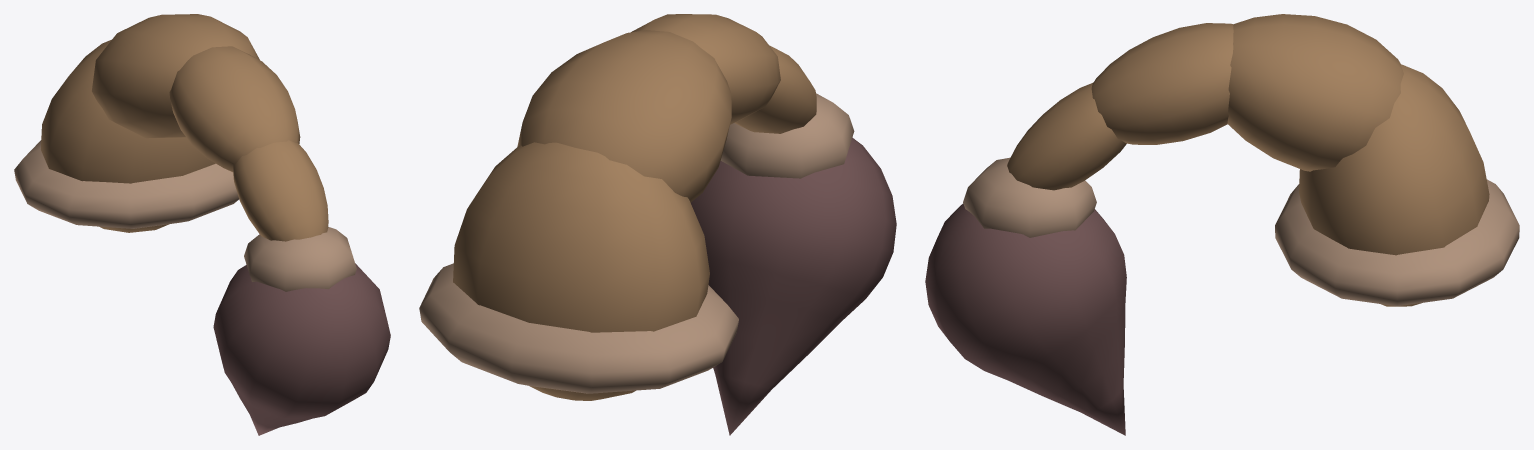
The model's file is sfeasgasf.fbx.
3 renders of one model, left to right at view 1: azimuth 30°, elevation 25°; view 2: azimuth 150°, elevation 25°; view 3: azimuth 270°, elevation 25°, orthographic. The views are drawn at different scales.
Parts seen in each view (by area): view 1: pSphere138; view 2: pSphere138; view 3: pSphere138.
Part boxes in pixels (x1=…): pSphere138: x1=14, y1=14, x2=390, y2=435; pSphere138: x1=419, y1=14, x2=896, y2=435; pSphere138: x1=925, y1=14, x2=1519, y2=435.
Bounding box in the file's own units: 143 × 213 × 279.
